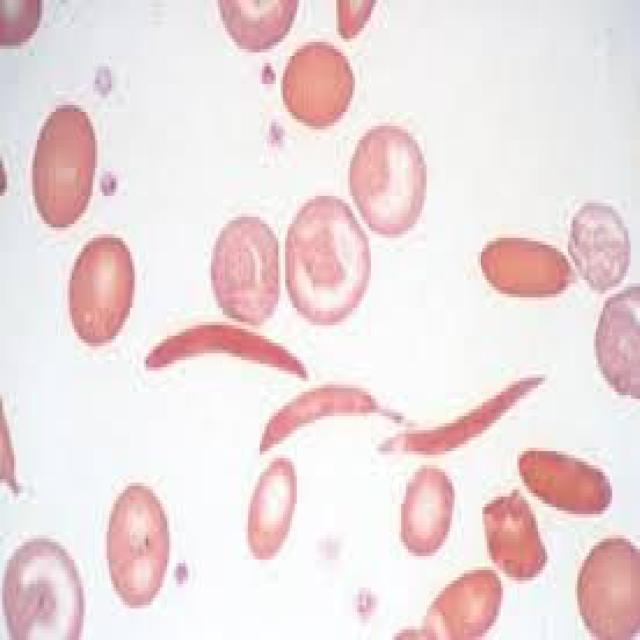RBC: (281, 189, 378, 332), (102, 465, 176, 623), (345, 122, 436, 248), (207, 199, 286, 343), (26, 98, 104, 238), (67, 228, 142, 368), (239, 448, 301, 577), (397, 458, 459, 556)
sickle cell: (371, 346, 547, 465), (139, 311, 315, 395), (249, 371, 414, 458)
